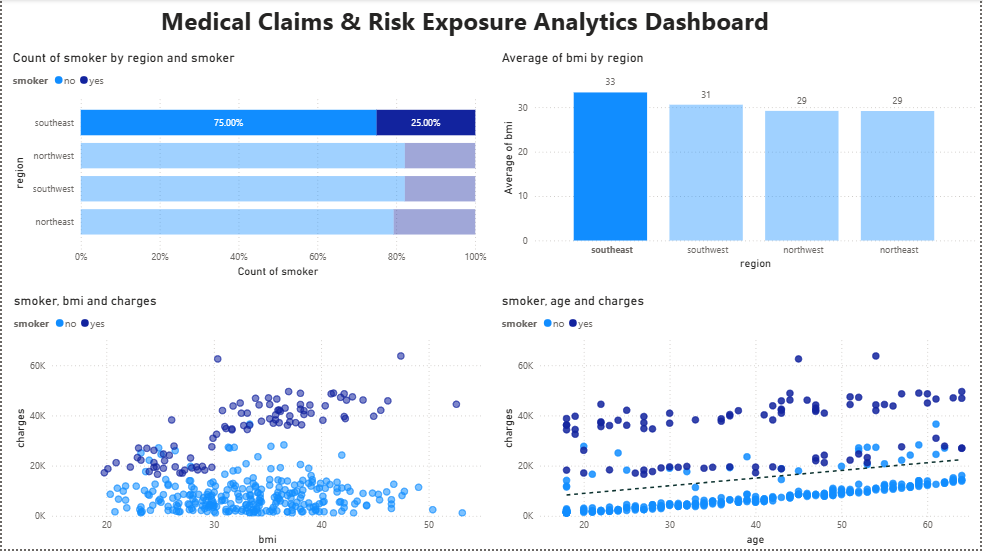

The dashboard page shown, as its layout file describes it:
{"tool":"powerbi","page":{"name":"Dashboard","canvas":[1280,720],"ordinal":0},"visuals":[{"type":"scatterChart","fields":{"X":["insurance.age"],"Y":["insurance.charges"],"Series":["insurance.smoker"]},"box":[649.5,385,630.4,335],"z":0},{"type":"scatterChart","fields":{"X":["insurance.bmi"],"Y":["insurance.charges"],"Series":["insurance.smoker"]},"box":[10.3,385,630.4,335],"z":1000},{"type":"clusteredColumnChart","fields":{"Category":["insurance.region"],"Y":["Avg(insurance.bmi)"]},"box":[649.5,66.1,630.4,292.4],"z":2000},{"type":"hundredPercentStackedBarChart","fields":{"Category":["insurance.region"],"Y":["CountNonNull(insurance.smoker)"],"Series":["insurance.smoker"]},"box":[8.8,66.1,630.4,302.7],"z":3000},{"type":"textbox","box":[202.8,0,821.4,66.1],"z":4000}]}

Visuals, with their boxes in screenshot pixels (x1, y1, x2, y2), scaled from the page's 1280x720 canvas onto the 983x551 screenshot:
scatterChart - insurance.age x insurance.charges: (x1=499, y1=295, x2=982, y2=550)
scatterChart - insurance.bmi x insurance.charges: (x1=8, y1=295, x2=492, y2=550)
clusteredColumnChart - insurance.region x Avg(insurance.bmi): (x1=499, y1=51, x2=982, y2=274)
hundredPercentStackedBarChart - insurance.region x CountNonNull(insurance.smoker): (x1=7, y1=51, x2=491, y2=282)
textbox: (x1=156, y1=0, x2=787, y2=51)
